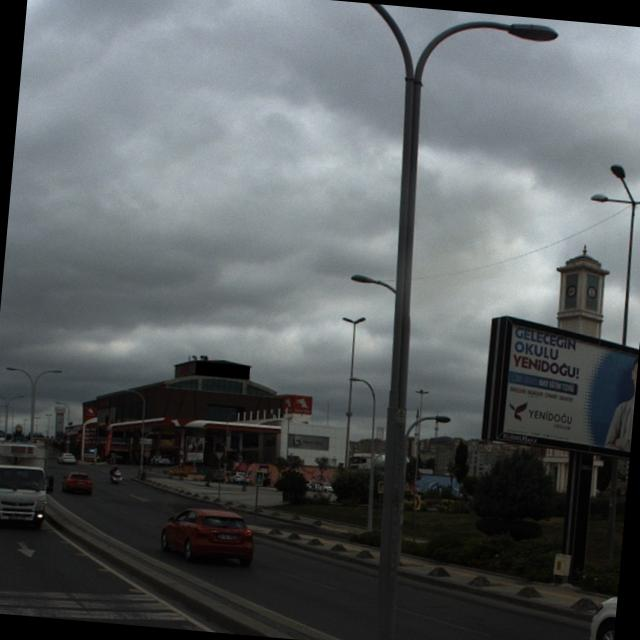SignStore: (195, 361, 250, 379)
